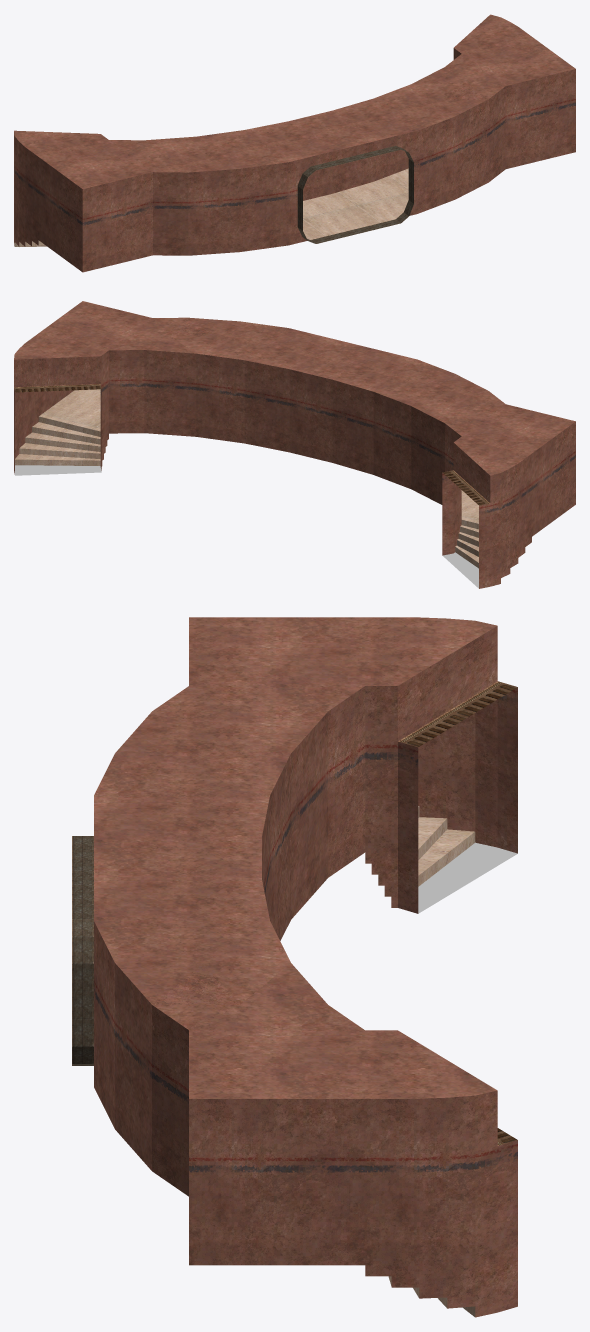
The model's file is ply_nboo_cantina_s01_r1_foyer_mesh_r1.fbx.
The picture shows the model from 3 angles, top to bottom: view 1: azimuth 30°, elevation 25°; view 2: azimuth 150°, elevation 25°; view 3: azimuth 270°, elevation 25°; orthographic projection. The views are drawn at different scales.
Parts seen in each view (by area): view 1: mesh_node; view 2: mesh_node; view 3: mesh_node.
Boxes of the visible parts, bbox=[...] form: mesh_node: bbox=[14, 14, 575, 272]; mesh_node: bbox=[14, 301, 575, 588]; mesh_node: bbox=[72, 617, 517, 1317].
Bounding box in the file's own units: 18.6 × 4 × 7.29.
